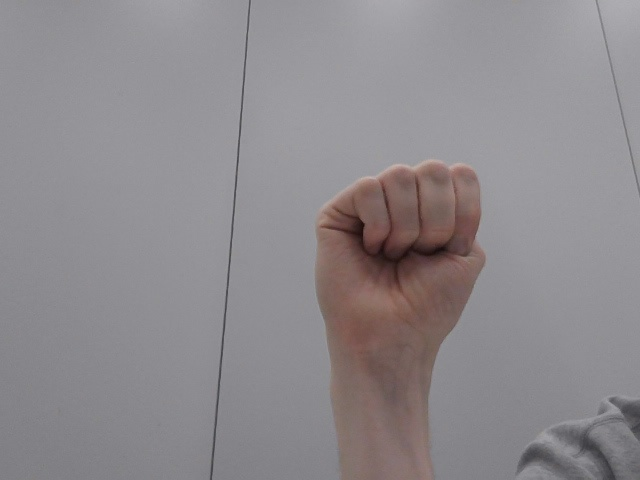down: (287, 150, 513, 381)
